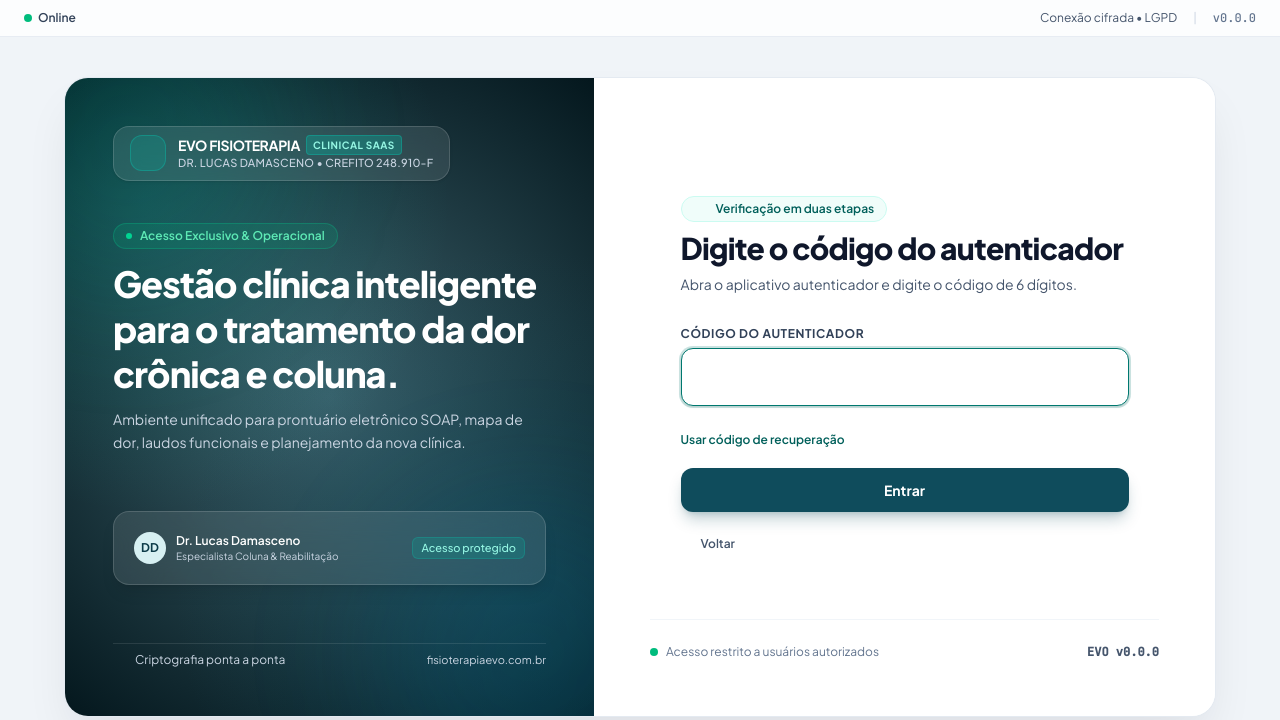
Scenario: MfaVerificarTela › SEM_CONEXAO mostra o banner na tela e mantém o desafio
In the field labelled "Código do autenticador": point(904, 377) [680,348,1128,406], type "123456"
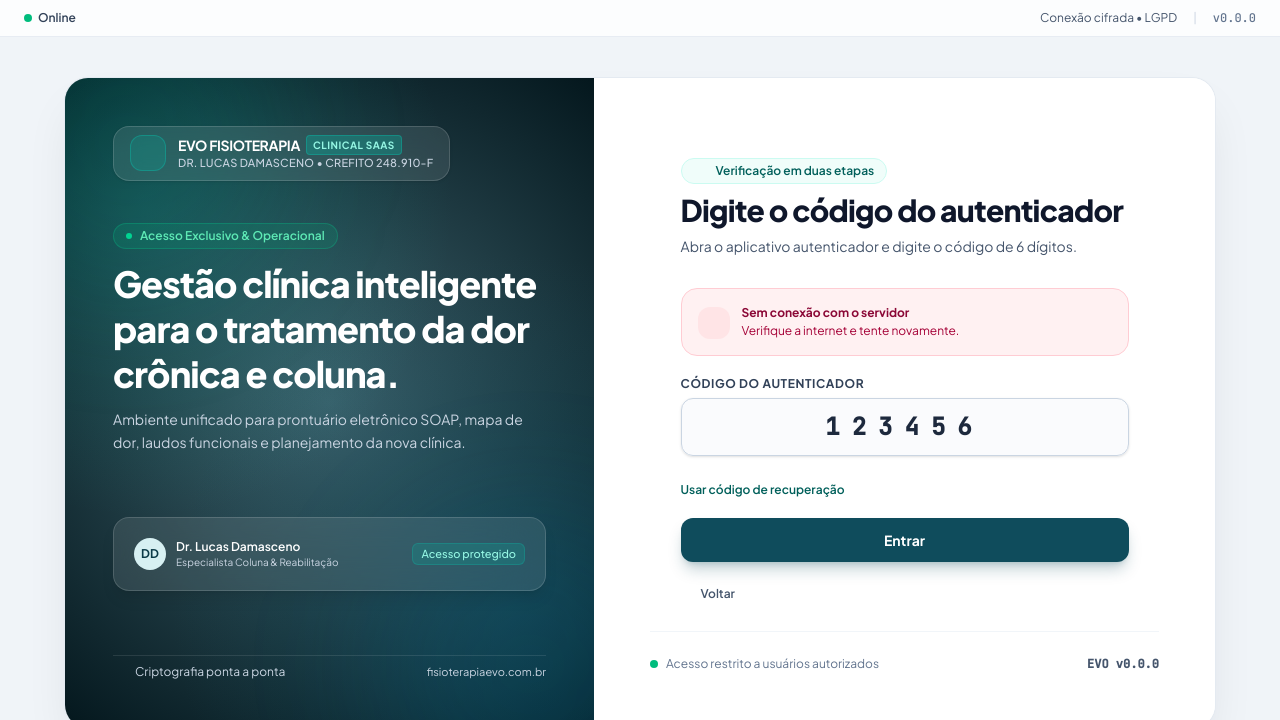
Now the message "Sem conexão com o servidor Verifique a internet e tente novamente." is shown, box [680,288,1128,356]
